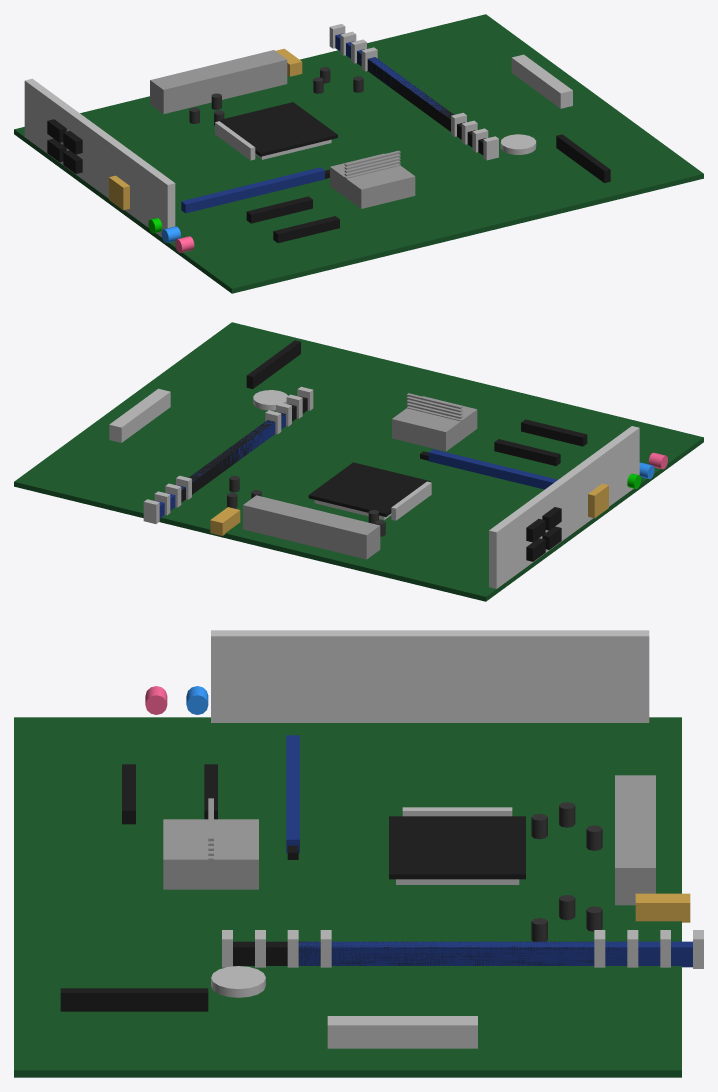
File: motherboard.glb
3 views of the same model, one above another, from view 1: azimuth 30°, elevation 25°; view 2: azimuth 150°, elevation 25°; view 3: azimuth 270°, elevation 25° (orthographic). The views are drawn at different scales.
Parts seen in each view (by area): view 1: Mesh_PCB, Mesh_IO_Shield, Mesh_VRM_HS, Mesh_Socket_Frame, Mesh_Chipset_HS, Mesh_PCIe_x16, Mesh_RAM_Slot_3, Mesh_ATX_24pin, Mesh_PCIe_x1a, Mesh_PCIe_x1b, Mesh_RAM_Slot_2, Mesh_RAM_Slot_0 (+3 smaller); view 2: Mesh_PCB, Mesh_IO_Shield, Mesh_VRM_HS, Mesh_Socket_Frame, Mesh_Chipset_HS, Mesh_PCIe_x16, Mesh_ATX_24pin, Mesh_RAM_Slot_2, Mesh_PCIe_x1b, Mesh_PCIe_x1a, Mesh_RAM_Slot_1, Mesh_RAM_Slot_3 (+4 smaller); view 3: Mesh_PCB, Mesh_IO_Shield, Mesh_Socket_Frame, Mesh_RAM_Slot_0, Mesh_Chipset_HS, Mesh_VRM_HS, Mesh_ATX_24pin, Mesh_RAM_Slot_1, Mesh_CPU_8pin, Mesh_PCIe_x16, Mesh_RAM_Slot_2, Mesh_CMOS (+8 smaller).
Boxes of the visible parts, bbox=[...] form: Mesh_PCB: bbox=[14, 14, 703, 293]; Mesh_IO_Shield: bbox=[24, 78, 175, 237]; Mesh_VRM_HS: bbox=[150, 50, 287, 114]; Mesh_Socket_Frame: bbox=[215, 102, 337, 156]; Mesh_Chipset_HS: bbox=[330, 153, 415, 208]; Mesh_PCIe_x16: bbox=[181, 167, 324, 213]; Mesh_RAM_Slot_3: bbox=[367, 58, 486, 155]; Mesh_ATX_24pin: bbox=[511, 54, 572, 108]; Mesh_PCIe_x1a: bbox=[246, 196, 312, 223]; Mesh_PCIe_x1b: bbox=[273, 216, 339, 242]; Mesh_RAM_Slot_2: bbox=[357, 51, 469, 137]; Mesh_RAM_Slot_0: bbox=[335, 33, 451, 115]; Mesh_PCB: bbox=[14, 322, 703, 601]; Mesh_IO_Shield: bbox=[489, 426, 639, 588]; Mesh_VRM_HS: bbox=[243, 495, 380, 559]; Mesh_Socket_Frame: bbox=[308, 462, 430, 516]; Mesh_Chipset_HS: bbox=[392, 396, 477, 451]; Mesh_PCIe_x16: bbox=[428, 449, 557, 489]; Mesh_ATX_24pin: bbox=[109, 388, 170, 442]; Mesh_RAM_Slot_2: bbox=[178, 404, 296, 502]; Mesh_PCIe_x1b: bbox=[521, 419, 587, 446]; Mesh_PCIe_x1a: bbox=[494, 439, 560, 465]; Mesh_RAM_Slot_1: bbox=[170, 412, 285, 505]; Mesh_RAM_Slot_3: bbox=[190, 396, 307, 482]; Mesh_PCB: bbox=[14, 717, 681, 1077]; Mesh_IO_Shield: bbox=[211, 630, 649, 722]; Mesh_Socket_Frame: bbox=[389, 816, 525, 879]; Mesh_RAM_Slot_0: bbox=[331, 941, 692, 967]; Mesh_Chipset_HS: bbox=[163, 819, 258, 889]; Mesh_VRM_HS: bbox=[615, 775, 655, 905]; Mesh_ATX_24pin: bbox=[327, 1016, 477, 1048]; Mesh_RAM_Slot_1: bbox=[298, 941, 660, 965]; Mesh_CPU_8pin: bbox=[635, 893, 690, 922]; Mesh_PCIe_x16: bbox=[286, 735, 299, 853]; Mesh_RAM_Slot_2: bbox=[266, 941, 626, 965]; Mesh_CMOS: bbox=[211, 966, 265, 997].
Bounding box in the file's own units: 0.3095 × 0.038 × 0.252.
